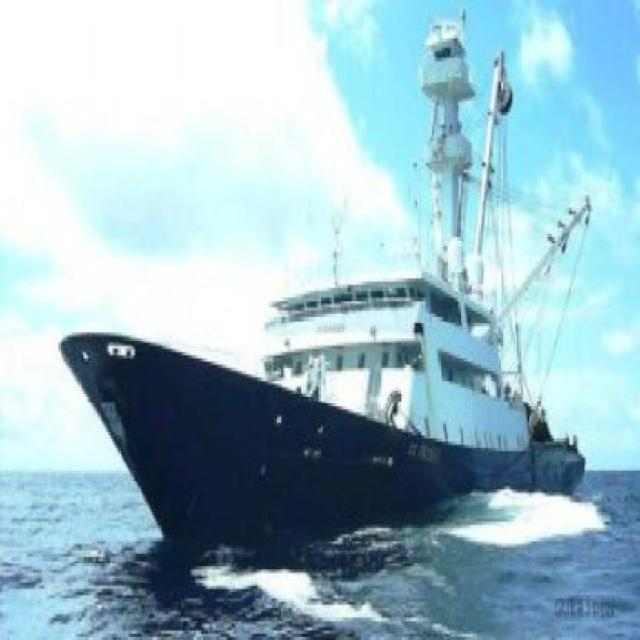fish-b: (43, 1, 614, 590)
